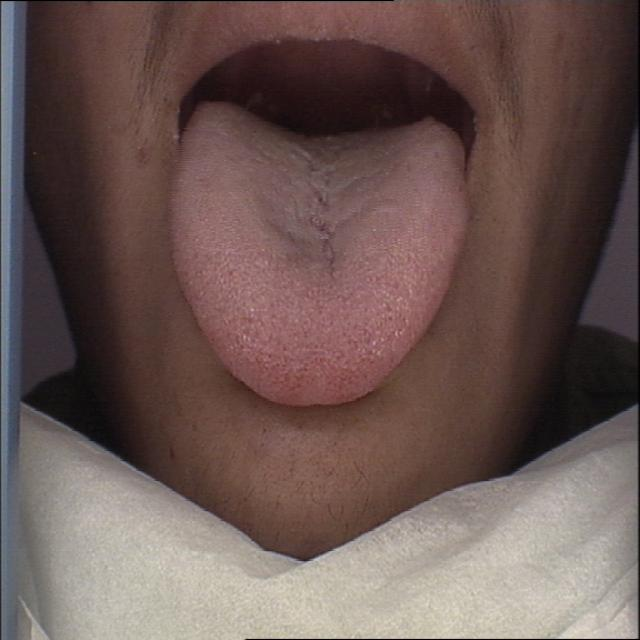tongue: (165, 96, 474, 414)
